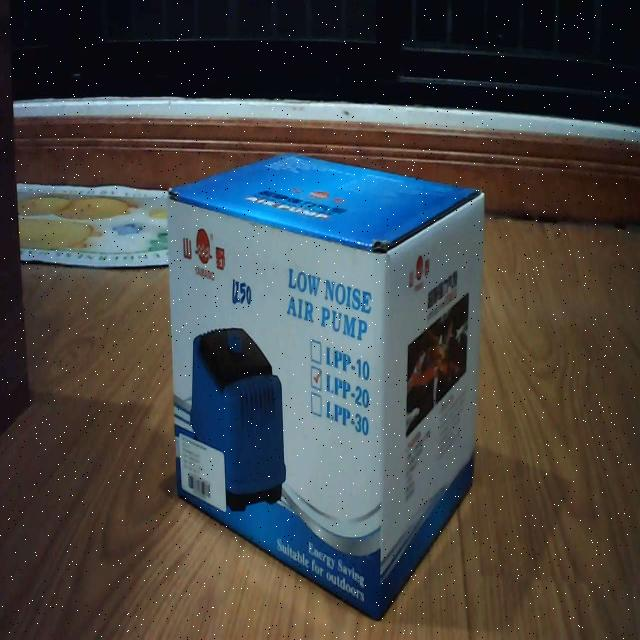YAMANO_LPP_20: (163, 136, 493, 628)
